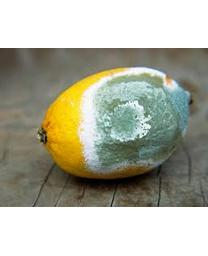lemon: (39, 65, 193, 181)
